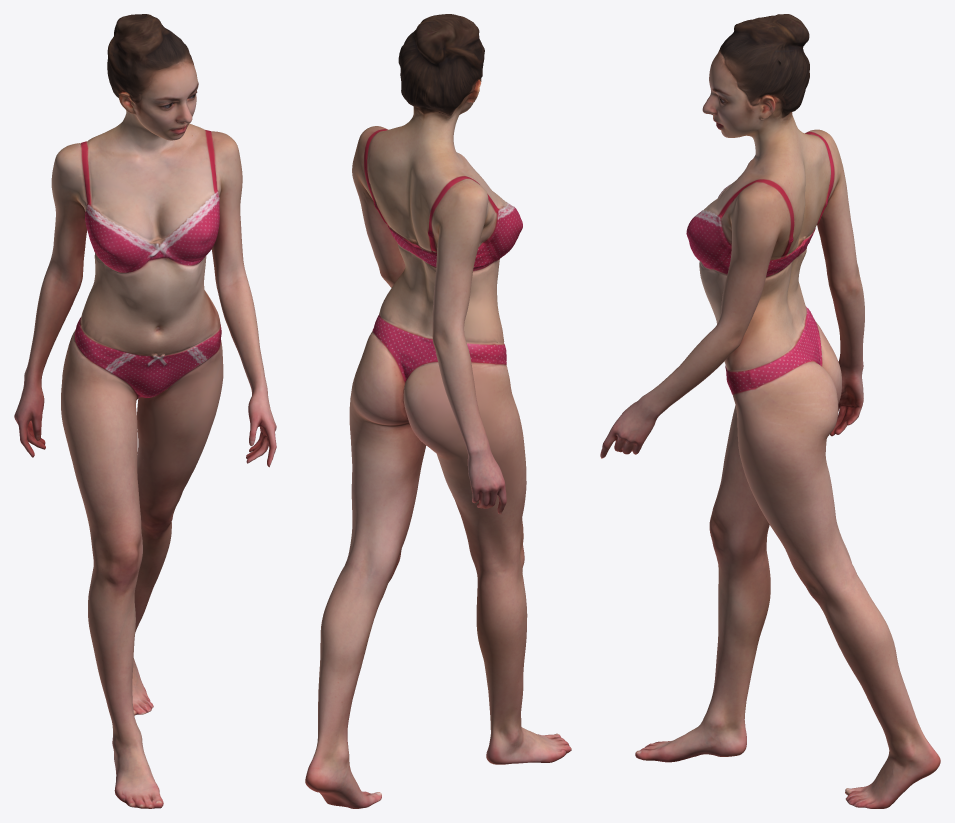
File: girl_004.glb
3 views of the same model, side by side, from view 1: azimuth 30°, elevation 25°; view 2: azimuth 150°, elevation 25°; view 3: azimuth 270°, elevation 25° (orthographic). The views are drawn at different scales.
Parts seen in each view (by area): view 1: Nake_Sum_Wom_RtWalk_854; view 2: Nake_Sum_Wom_RtWalk_854; view 3: Nake_Sum_Wom_RtWalk_854.
Boxes of the visible parts, left/top/right/bottom form: Nake_Sum_Wom_RtWalk_854: left=14, top=14, right=276, bottom=808; Nake_Sum_Wom_RtWalk_854: left=305, top=14, right=571, bottom=808; Nake_Sum_Wom_RtWalk_854: left=600, top=14, right=940, bottom=808.
Size of what is drawn, in the model's own units: 0.4109 by 1.57 by 0.6349.
1 material, 1 textured.
